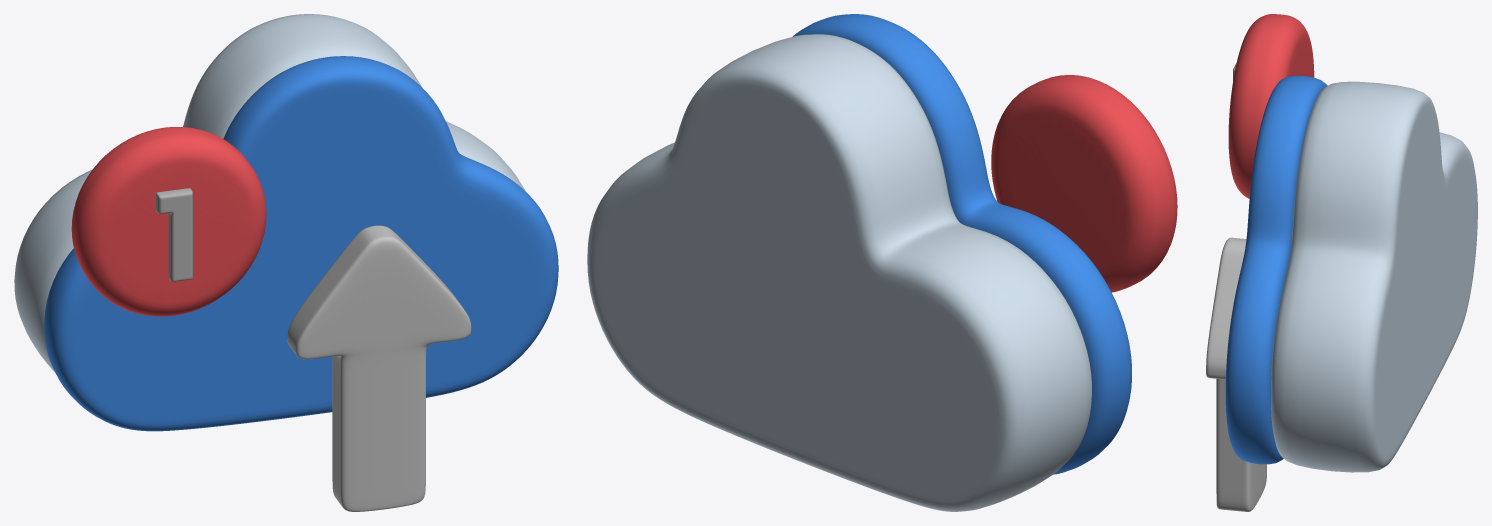
Rendered from new-upload-animated-3d-icon-232791042058.glb.
3 views of the same model, side by side, from view 1: azimuth 30°, elevation 25°; view 2: azimuth 150°, elevation 25°; view 3: azimuth 270°, elevation 25° (orthographic). The views are drawn at different scales.
Visible parts, largest first — view 1: Cloud 1, Arrow, Base.005, Cloud 2, Value.003; view 2: Cloud 2, Base.005, Cloud 1; view 3: Cloud 2, Cloud 1, Base.005, Arrow.
Boxes of the visible parts, left/top/right/bottom form: Cloud 1: left=44, top=56, right=558, bottom=431; Arrow: left=287, top=225, right=471, bottom=511; Base.005: left=71, top=127, right=266, bottom=316; Cloud 2: left=14, top=14, right=525, bottom=371; Value.003: left=156, top=188, right=192, bottom=281; Cloud 2: left=587, top=34, right=1091, bottom=511; Base.005: left=991, top=75, right=1177, bottom=292; Cloud 1: left=792, top=14, right=1131, bottom=474; Cloud 2: left=1271, top=81, right=1477, bottom=472; Cloud 1: left=1225, top=75, right=1327, bottom=464; Base.005: left=1228, top=14, right=1314, bottom=198; Arrow: left=1206, top=237, right=1266, bottom=511.
Size of the model in its own units: 2.42 by 2.06 by 1.26.
